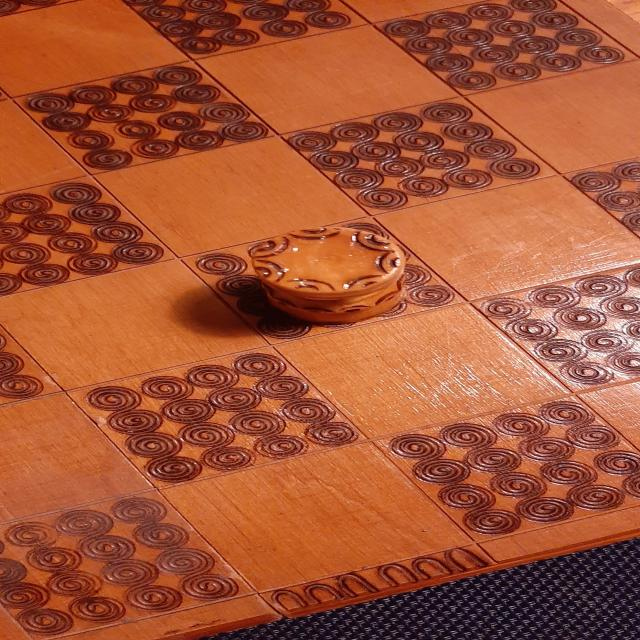white-rook: (247, 225, 406, 325)
